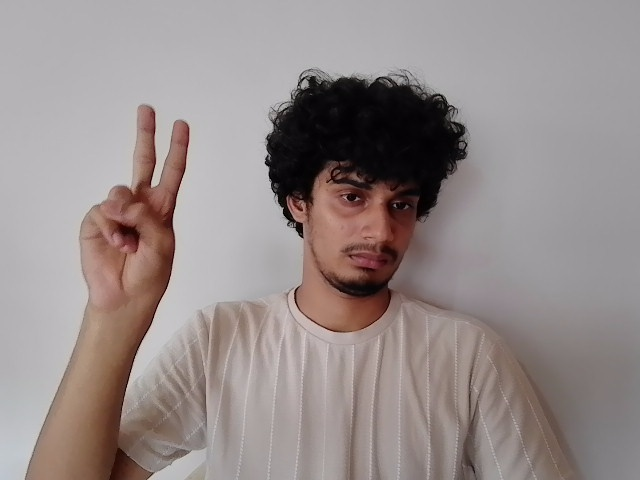travel: (72, 93, 195, 311)
